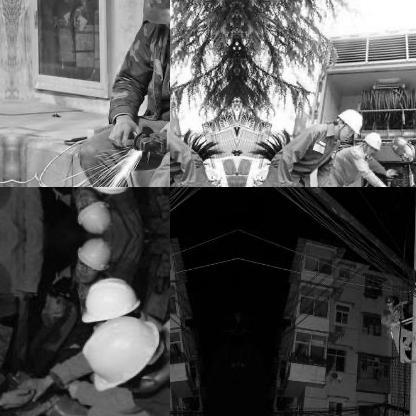Helmet: (76, 305, 169, 401), (74, 272, 142, 332), (74, 236, 112, 278), (74, 190, 112, 232), (132, 0, 169, 39), (331, 105, 363, 139), (386, 133, 415, 165), (73, 187, 144, 198), (357, 127, 381, 155), (382, 294, 392, 308)
